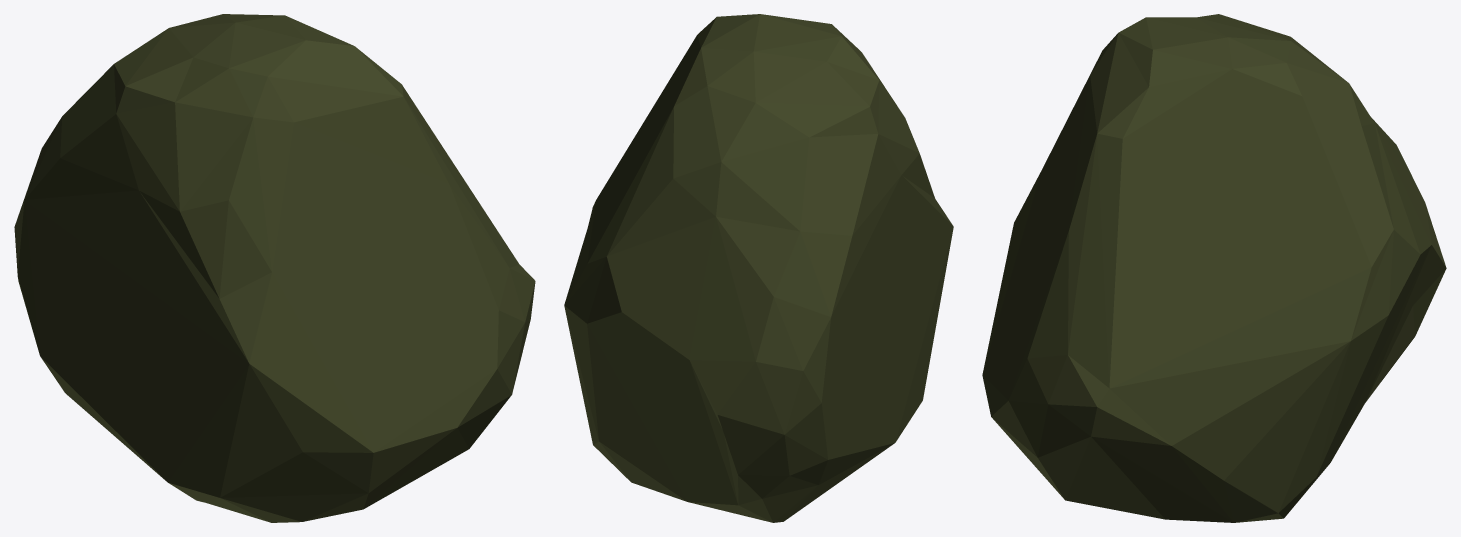
File: SM_small_rock_29.fbx
3 renders of one model, left to right at view 1: azimuth 30°, elevation 25°; view 2: azimuth 150°, elevation 25°; view 3: azimuth 270°, elevation 25°, orthographic. The views are drawn at different scales.
Parts seen in each view (by area): view 1: small_rock_29; view 2: small_rock_29; view 3: small_rock_29.
Boxes of the visible parts, x1=… form: small_rock_29: x1=14, y1=14, x2=535, y2=522; small_rock_29: x1=564, y1=14, x2=953, y2=522; small_rock_29: x1=982, y1=14, x2=1446, y2=522.
Bounding box in the file's own units: 14.82 × 17.8 × 16.17.
